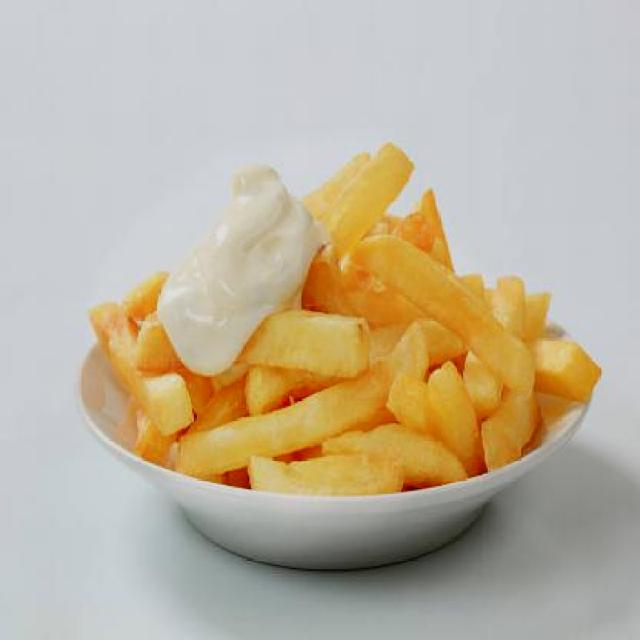fries: (83, 138, 605, 493)
